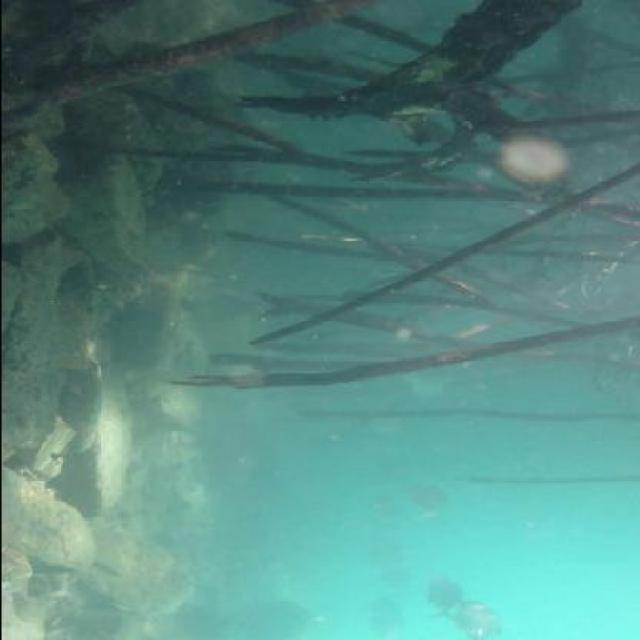Caranx_sexfasciatus_juvenile: (358, 534, 409, 598), (418, 579, 474, 627), (407, 484, 462, 525), (354, 602, 411, 640), (456, 601, 501, 640)
